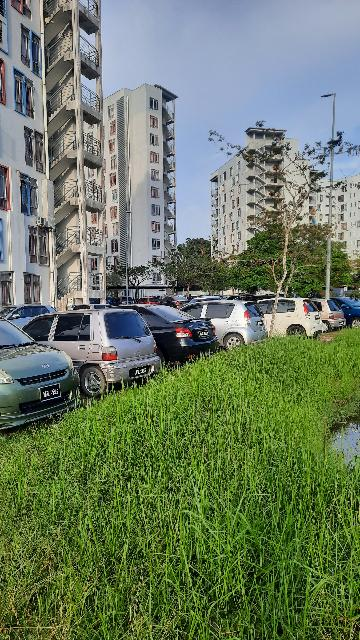License_Plate: (37, 384, 66, 403), (129, 365, 154, 378), (197, 328, 211, 341)
car: (26, 302, 157, 393), (1, 311, 85, 429), (114, 301, 219, 369), (179, 302, 275, 352), (251, 293, 327, 345)
